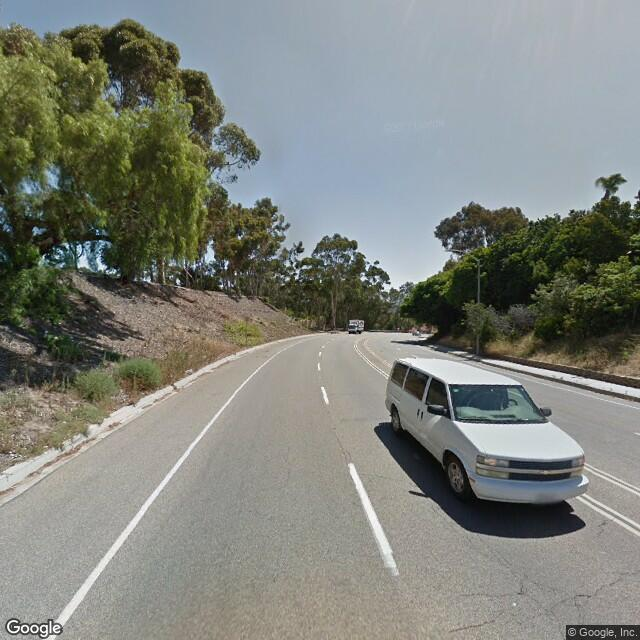litter: (203, 367, 213, 372), (43, 445, 49, 446)
